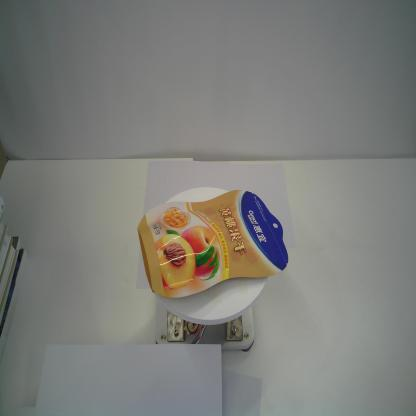Dried Fruit: (136, 188, 290, 300)
